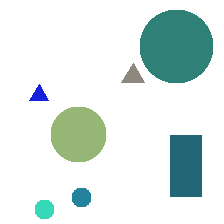circle: (140, 10, 212, 82), (51, 107, 105, 161), (72, 188, 90, 206), (35, 200, 53, 218)
rectangle: (170, 135, 201, 196)
triangle: (121, 63, 144, 82), (29, 84, 48, 100)
